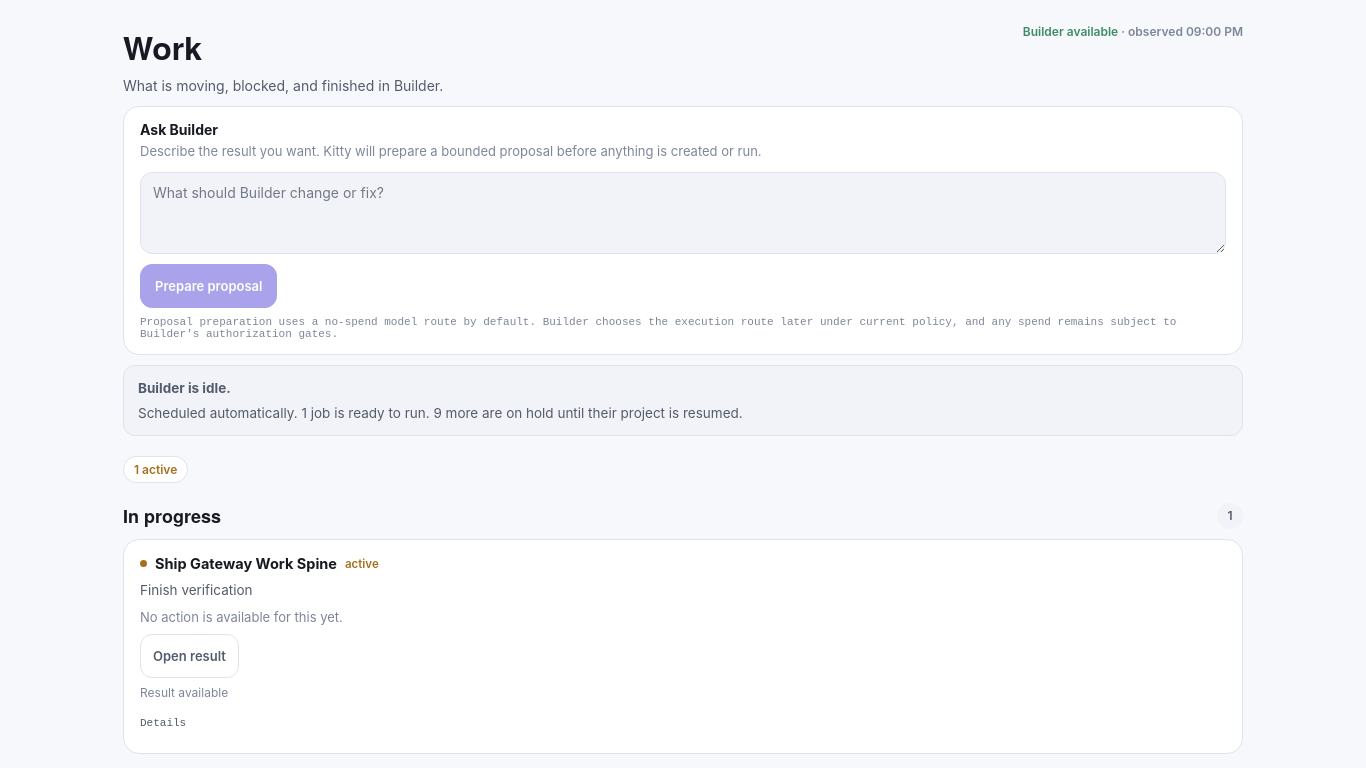
Test case: WorkView projection › shows a durable result independently and opens the canonical artifact canvas
The width and height of the screenshot is (1366, 768).
expect the text "Result available" is shown: met, box [140, 685, 228, 700]
Click the button "Open result" at (189, 656), box [140, 634, 239, 678]
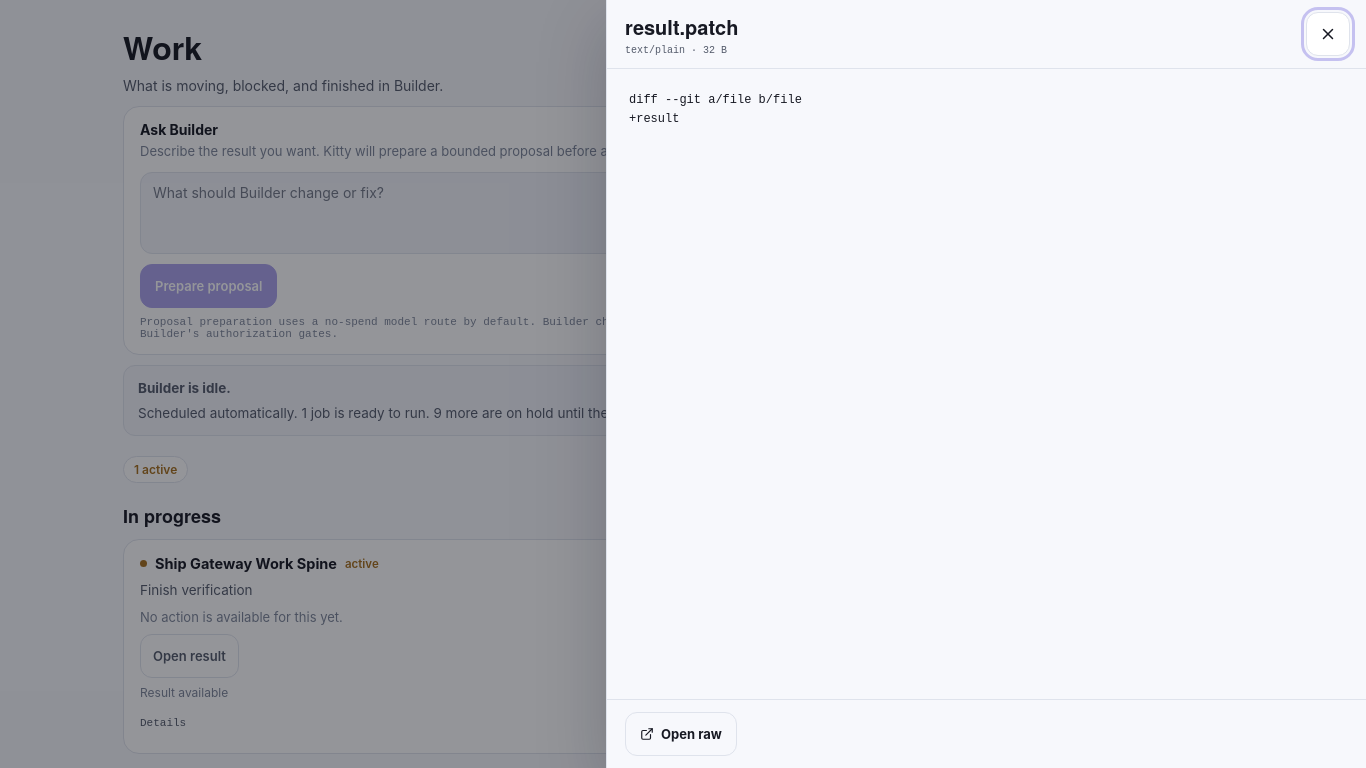
expect the dialog "result.patch" is shown: met, box [606, 0, 1365, 767]
expect the text "diff --git a/file b/file +result" is shown: met, box [629, 93, 802, 126]
